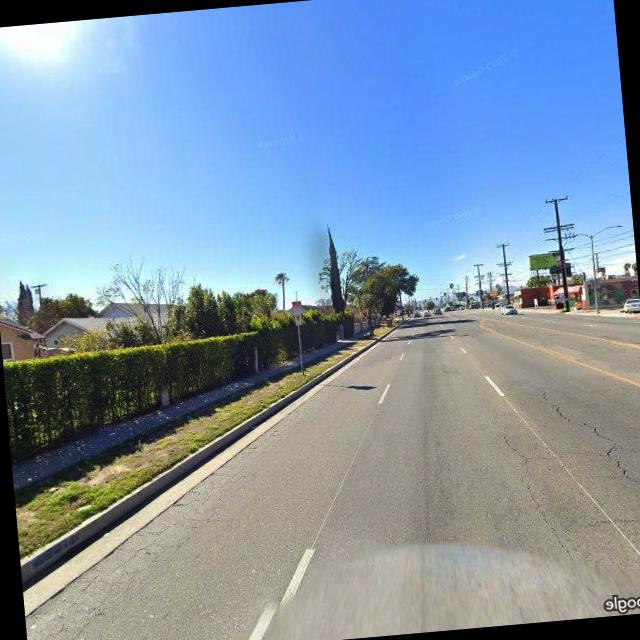pothole: (539, 377, 640, 499), (492, 417, 560, 550)
